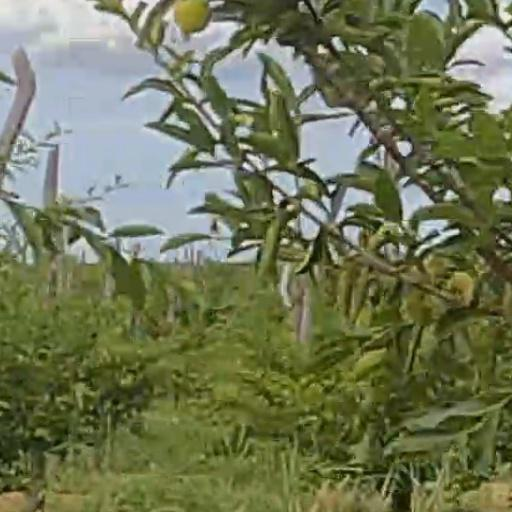acerola_verde: (174, 1, 207, 32)
